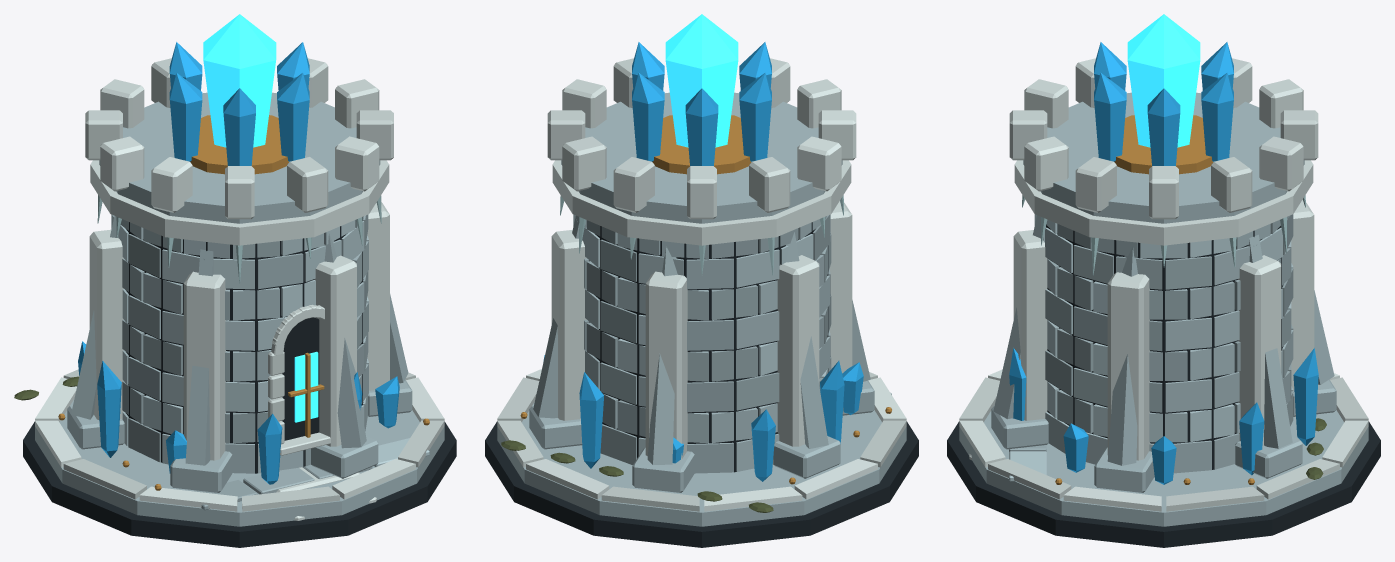
File: frost__cristalina__L10.glb
The picture shows the model from 3 angles, left to right: view 1: azimuth 30°, elevation 25°; view 2: azimuth 150°, elevation 25°; view 3: azimuth 270°, elevation 25°; orthographic projection.
Visible parts, largest first — view 1: structure, weapon; view 2: structure, weapon; view 3: structure, weapon.
Boxes of the visible parts, left/top/right/bottom form: structure: left=14, top=58, right=456, bottom=547; weapon: left=169, top=14, right=309, bottom=174; structure: left=485, top=58, right=918, bottom=547; weapon: left=632, top=14, right=771, bottom=174; structure: left=947, top=58, right=1380, bottom=547; weapon: left=1094, top=14, right=1233, bottom=174.
Bounding box in the file's own units: 0.8624 × 0.9702 × 0.8624.
